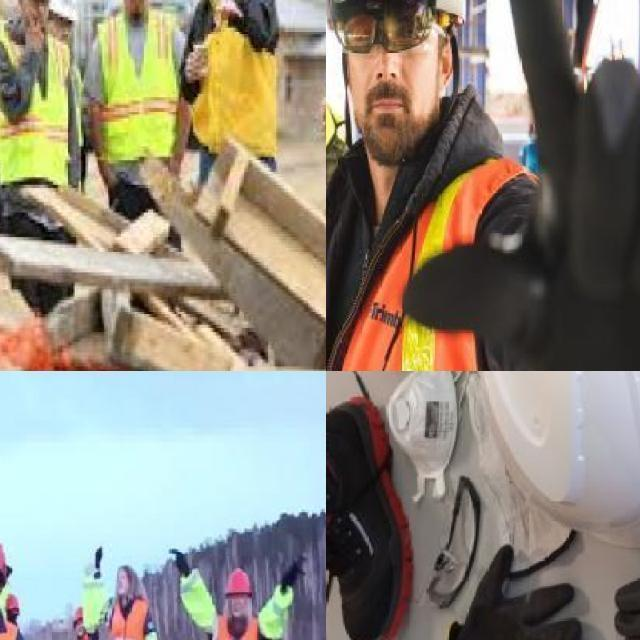apron: (481, 0, 640, 371), (326, 547, 432, 640), (277, 548, 308, 594), (166, 546, 192, 576), (95, 538, 104, 578)
